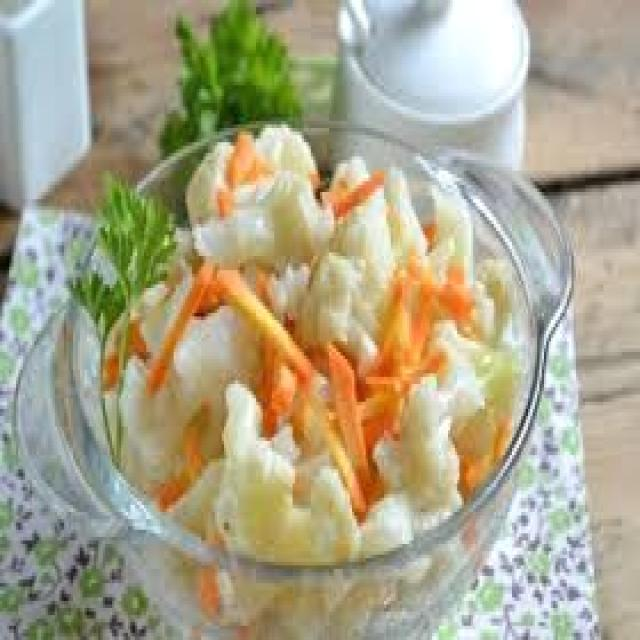garlic: (263, 310, 364, 433), (151, 249, 221, 381), (378, 273, 432, 398)
ginger: (306, 133, 474, 365), (188, 97, 352, 301), (115, 266, 266, 473), (220, 406, 377, 581), (381, 372, 489, 521)
